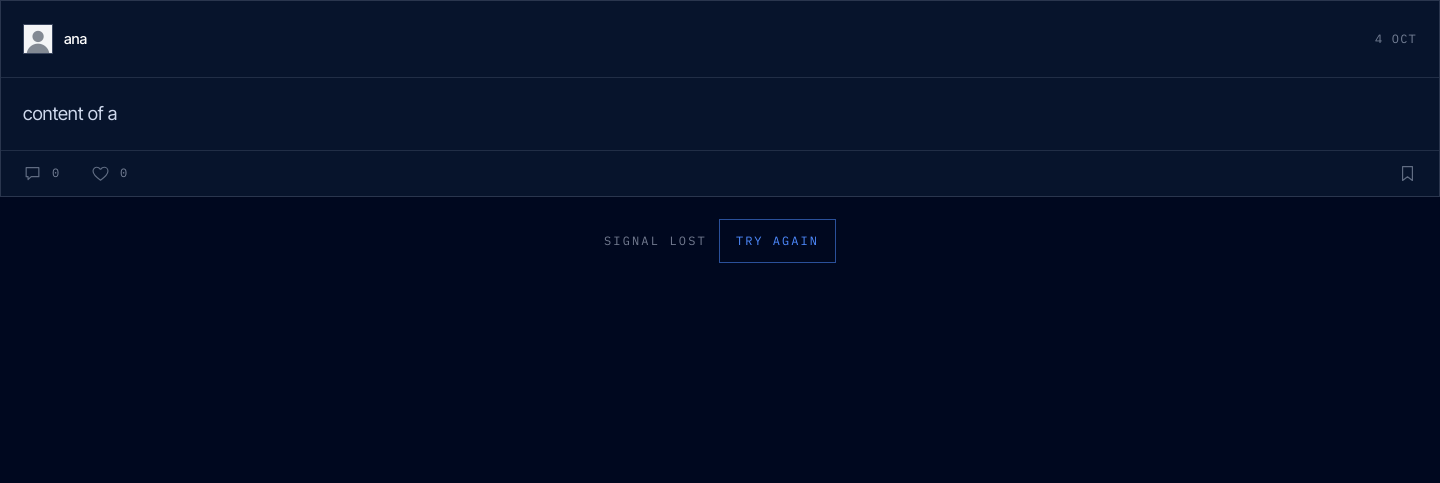
Test case: failures › should_ask_for_the_same_cursor_again_when_try_again_is_pressed_after_a_later_page_failed
The image size is (1440, 483).
Click the button "TRY AGAIN". click: point(778, 241)
box: [719,219,836,263]
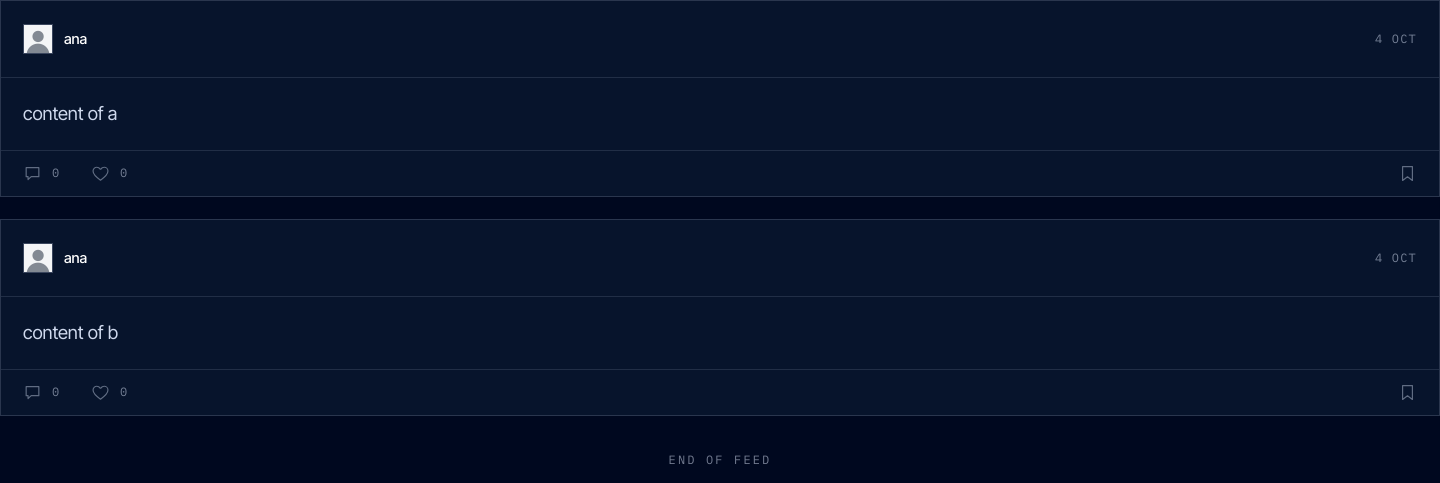
Expected: the text "END OF FEED" is shown, [668,452,772,466]
